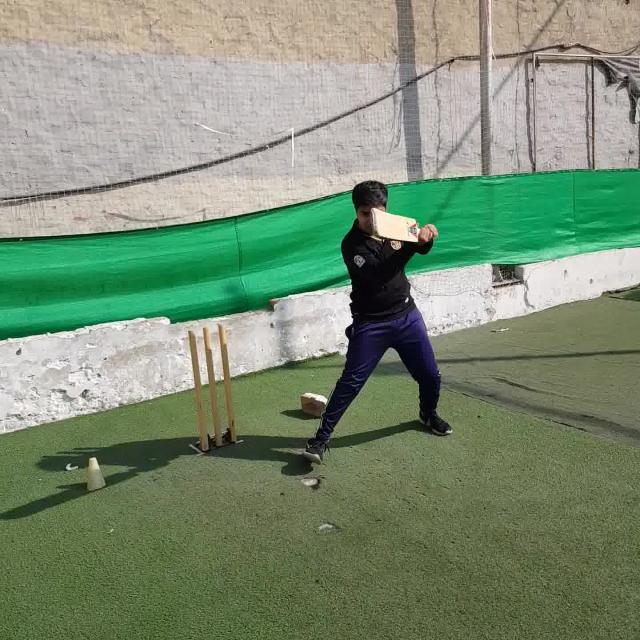bat: (370, 205, 433, 244)
